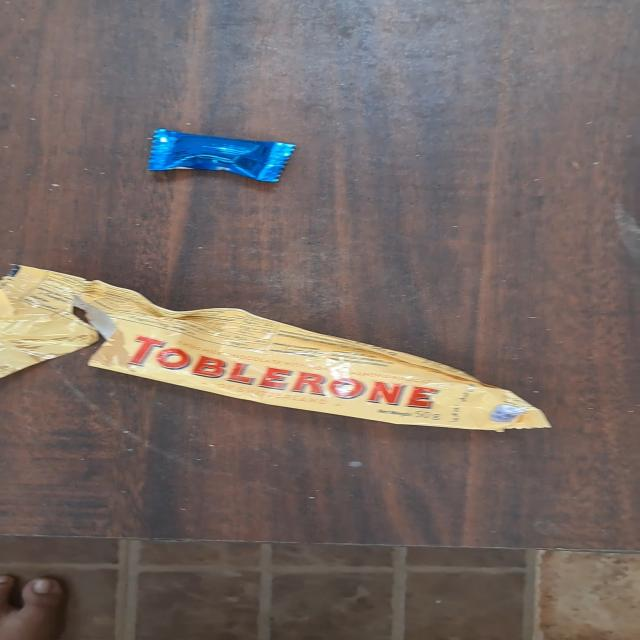Anorganik: (0, 257, 558, 435), (149, 124, 298, 184)
